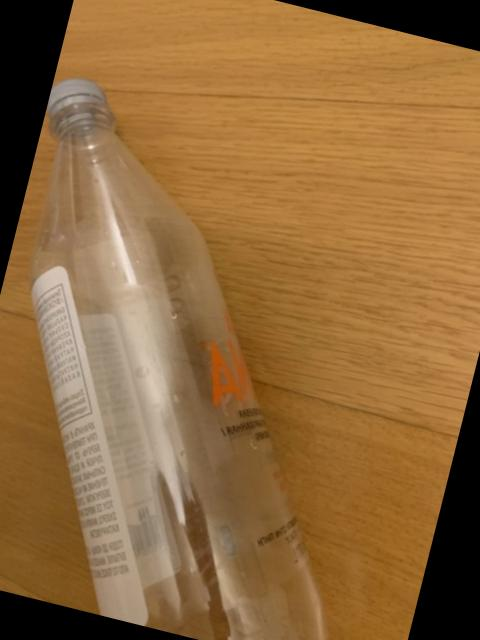plastic: (33, 77, 329, 640)
